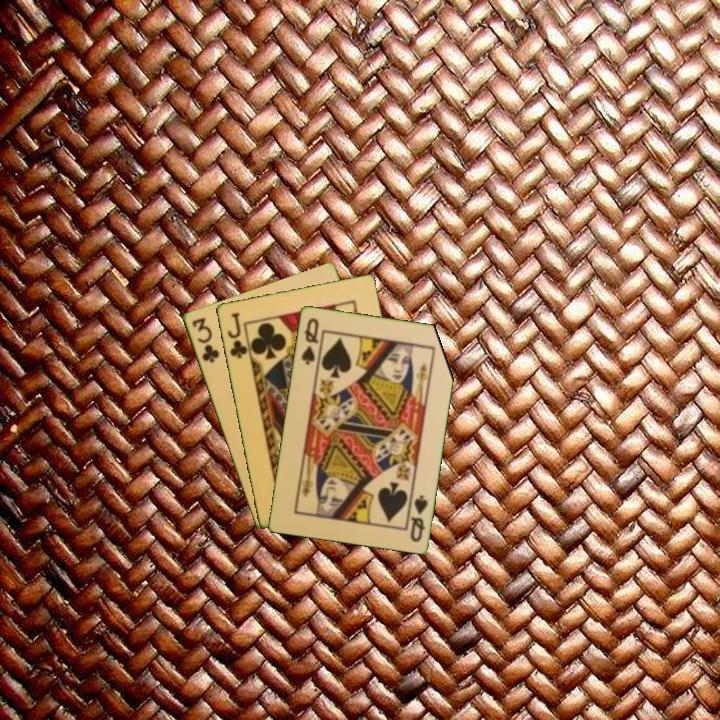3c: (188, 314, 222, 365)
Jc: (224, 309, 250, 361)
Qs: (297, 314, 321, 367), (406, 491, 430, 544)
